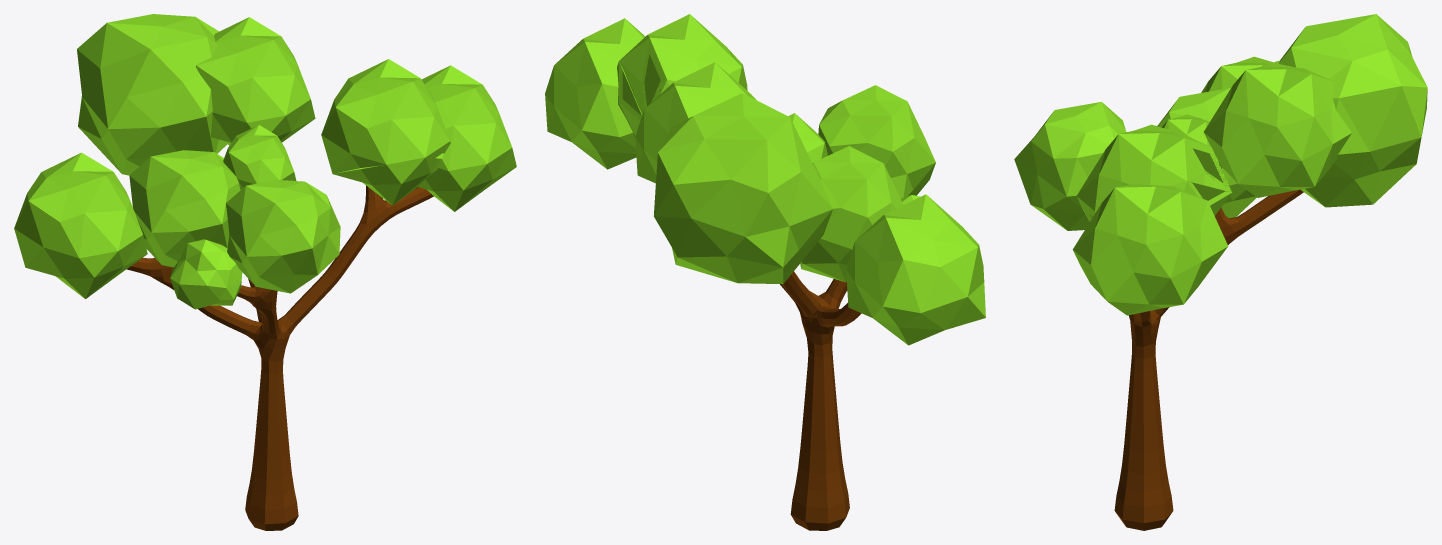
The model's file is tree1.fbx.
3 renders of one model, left to right at view 1: azimuth 30°, elevation 25°; view 2: azimuth 150°, elevation 25°; view 3: azimuth 270°, elevation 25°, orthographic. The views are drawn at different scales.
Parts seen in each view (by area): view 1: Icosphere.002, Plane; view 2: Icosphere.002, Plane; view 3: Icosphere.002, Plane.
Part boxes in pixels (left/top/right/bottom): Icosphere.002: left=14, top=14, right=516, bottom=309; Plane: left=126, top=185, right=433, bottom=530; Icosphere.002: left=545, top=14, right=985, bottom=345; Plane: left=780, top=271, right=861, bottom=530; Icosphere.002: left=1014, top=14, right=1427, bottom=315; Plane: left=1114, top=189, right=1303, bottom=530.
Size of the model in its own units: 1427 by 1386 by 1079.
